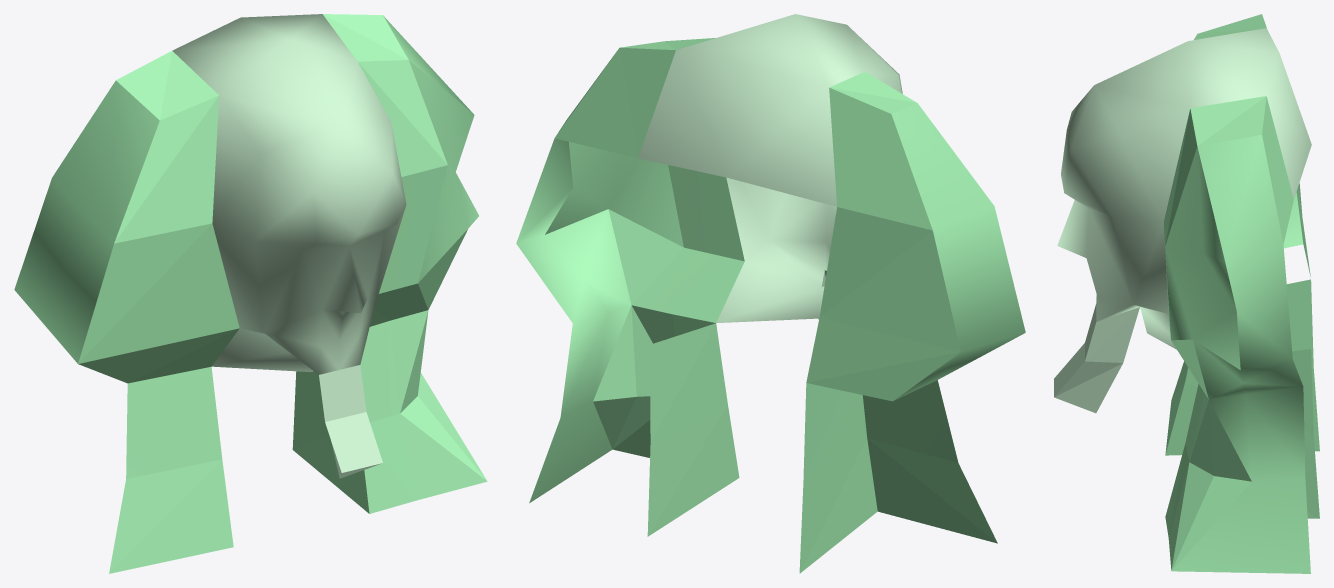
The picture shows the model from 3 angles, left to right: view 1: azimuth 30°, elevation 25°; view 2: azimuth 150°, elevation 25°; view 3: azimuth 270°, elevation 25°; orthographic projection. The views are drawn at different scales.
Parts seen in each view (by area): view 1: Object55; view 2: Object55; view 3: Object55.
Boxes of the visible parts, box(x1,y1,x2,y2) form: Object55: box(14, 14, 487, 573); Object55: box(516, 14, 1025, 573); Object55: box(1054, 14, 1319, 573).
Size of the model in its own units: 389 by 409 by 221.
